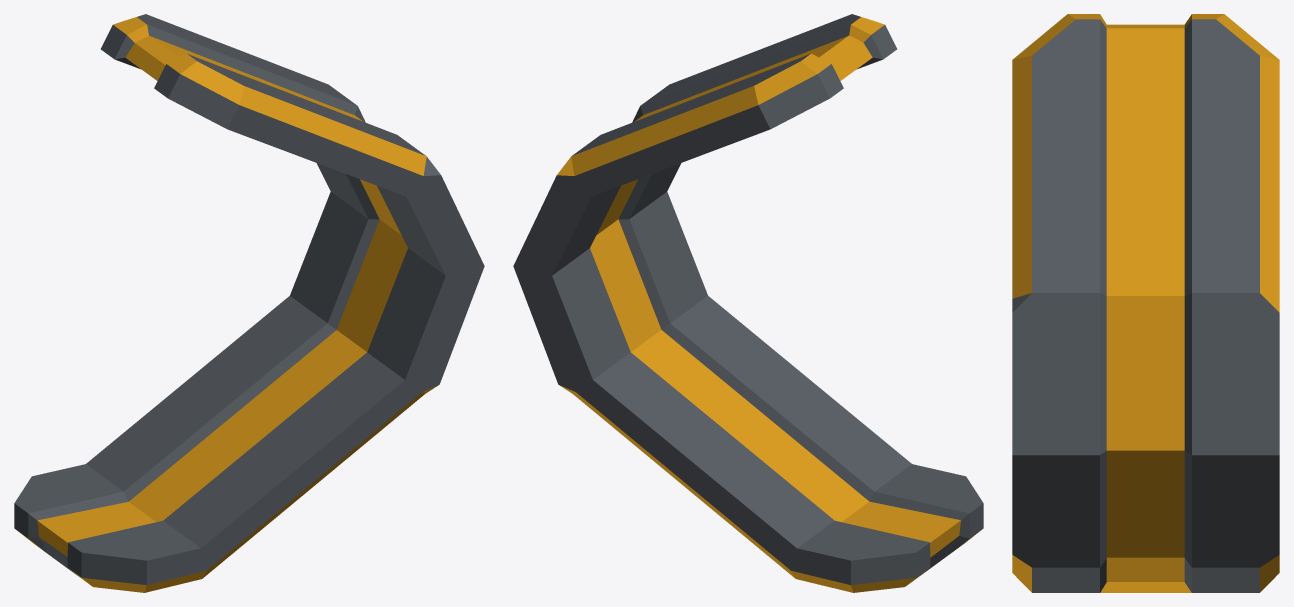
Rendered from Mothership_02_Thrust_Frame_Yellow.fbx.
3 views of the same model, side by side, from view 1: azimuth 30°, elevation 25°; view 2: azimuth 150°, elevation 25°; view 3: azimuth 270°, elevation 25° (orthographic). The views are drawn at different scales.
Parts seen in each view (by area): view 1: Mothership_02_Thrust_Frame_Yellow; view 2: Mothership_02_Thrust_Frame_Yellow; view 3: Mothership_02_Thrust_Frame_Yellow.
Boxes of the visible parts, x1=… form: Mothership_02_Thrust_Frame_Yellow: x1=14, y1=14, x2=484, y2=592; Mothership_02_Thrust_Frame_Yellow: x1=513, y1=14, x2=983, y2=592; Mothership_02_Thrust_Frame_Yellow: x1=1012, y1=14, x2=1279, y2=592.
Bounding box in the file's own units: 373 × 471 × 196.
Materials: 1 (1 with a texture image).
